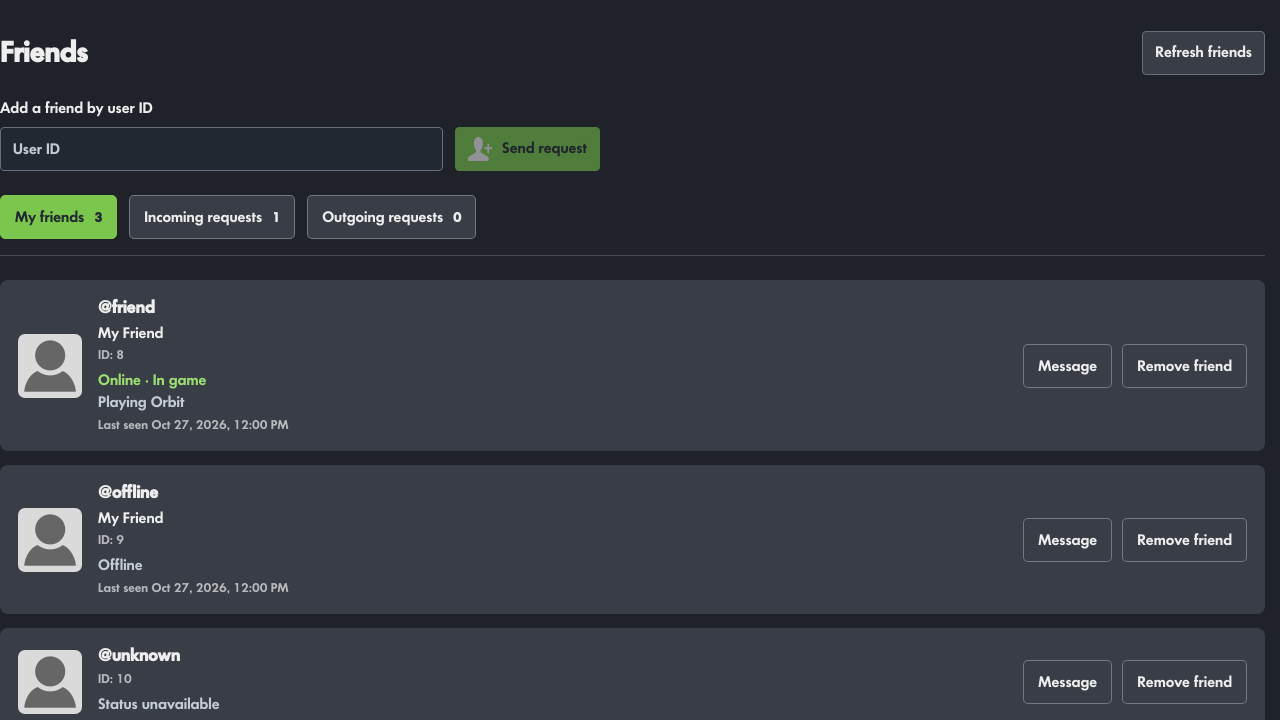
Test: friend cards show textual status, activity and last seen, but request senders do not expose presence
Expected: the text "Online · In game" is shown, [98,372,206,388]
Expected: the text "Playing Orbit" is shown, [98,394,184,410]
Click the tab "Incoming requests 1" at (212, 217), box [129,195,295,239]
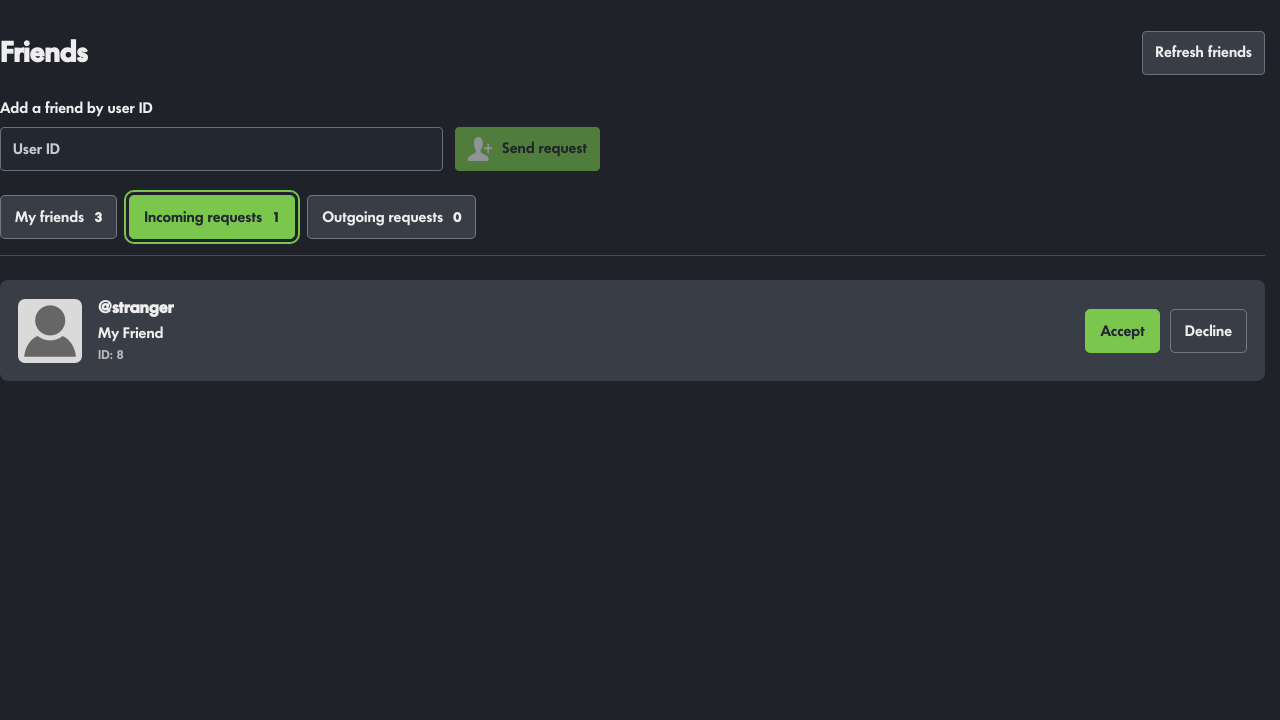
Now the text "@stranger" is shown, box [98,299,173,317]
Now the link "Playing Orbit" is gone
